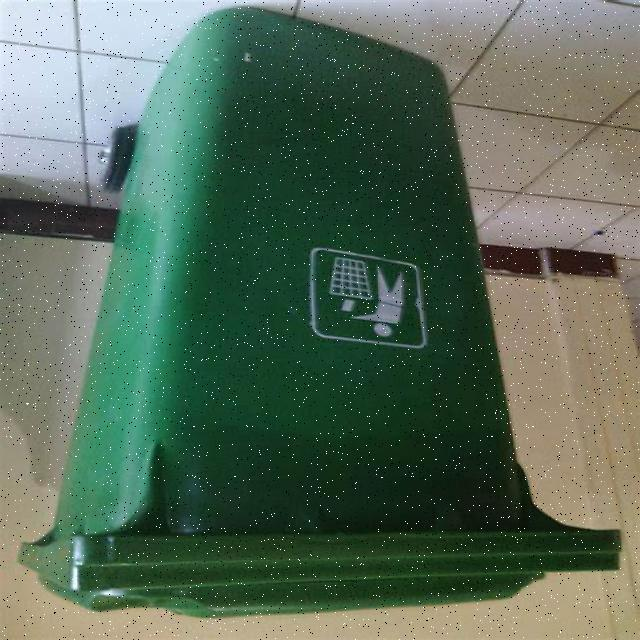garbage container: (26, 15, 640, 630)
